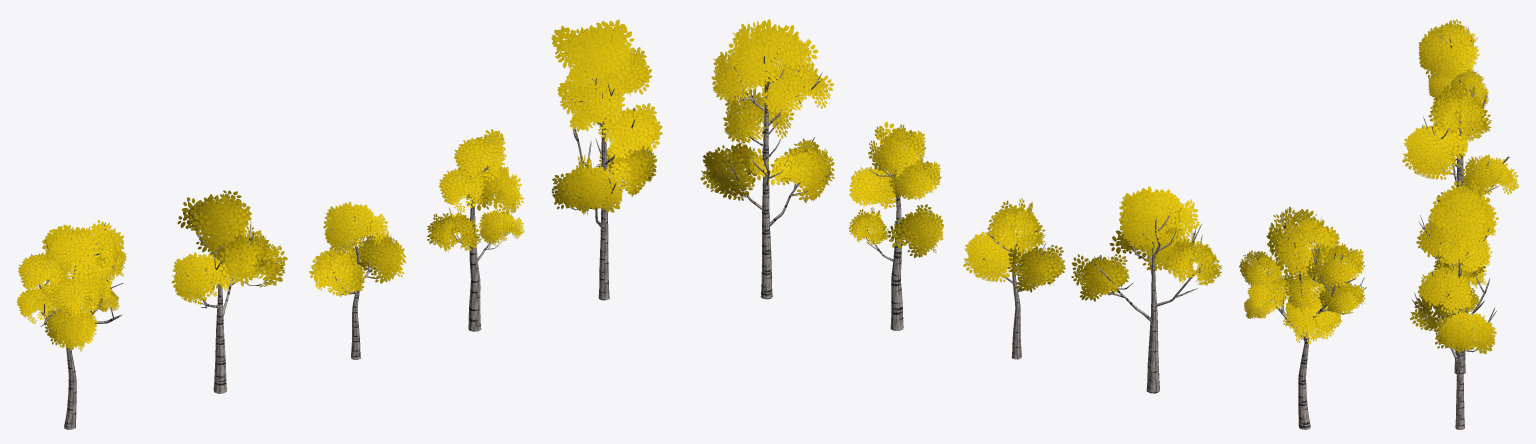
File: NAT_Birch.glb
3 views of the same model, side by side, from view 1: azimuth 30°, elevation 25°; view 2: azimuth 150°, elevation 25°; view 3: azimuth 270°, elevation 25° (orthographic). The views are drawn at different scales.
Parts seen in each view (by area): view 1: BirchTree_2, BirchTree_3, BirchTree_5, BirchTree_1, BirchTree_4; view 2: BirchTree_2, BirchTree_3, BirchTree_5, BirchTree_1, BirchTree_4; view 3: BirchTree_2, BirchTree_5, BirchTree_3, BirchTree_1.
Boxes of the visible parts, left/top/right/bottom form: BirchTree_2: left=551, top=19, right=662, bottom=300; BirchTree_3: left=17, top=220, right=126, bottom=429; BirchTree_5: left=171, top=190, right=287, bottom=393; BirchTree_1: left=427, top=129, right=524, bottom=331; BirchTree_4: left=309, top=201, right=406, bottom=359; BirchTree_2: left=700, top=19, right=834, bottom=299; BirchTree_3: left=1239, top=206, right=1366, bottom=429; BirchTree_5: left=1071, top=186, right=1221, bottom=393; BirchTree_1: left=848, top=121, right=943, bottom=330; BirchTree_4: left=963, top=198, right=1065, bottom=359; BirchTree_2: left=1410, top=178, right=1498, bottom=429; BirchTree_5: left=1402, top=81, right=1518, bottom=196; BirchTree_3: left=1418, top=19, right=1488, bottom=190; BirchTree_1: left=1425, top=201, right=1486, bottom=374.
Bounding box in the file's own units: 18.56 × 7.57 × 3.51.
Materials: 2 (2 with a texture image).
